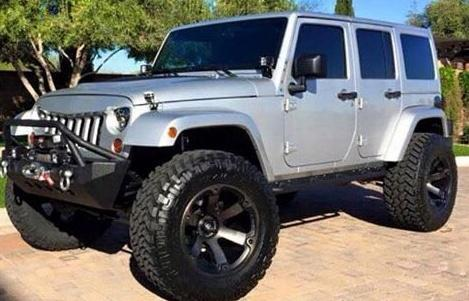SUV: (1, 14, 457, 301)
